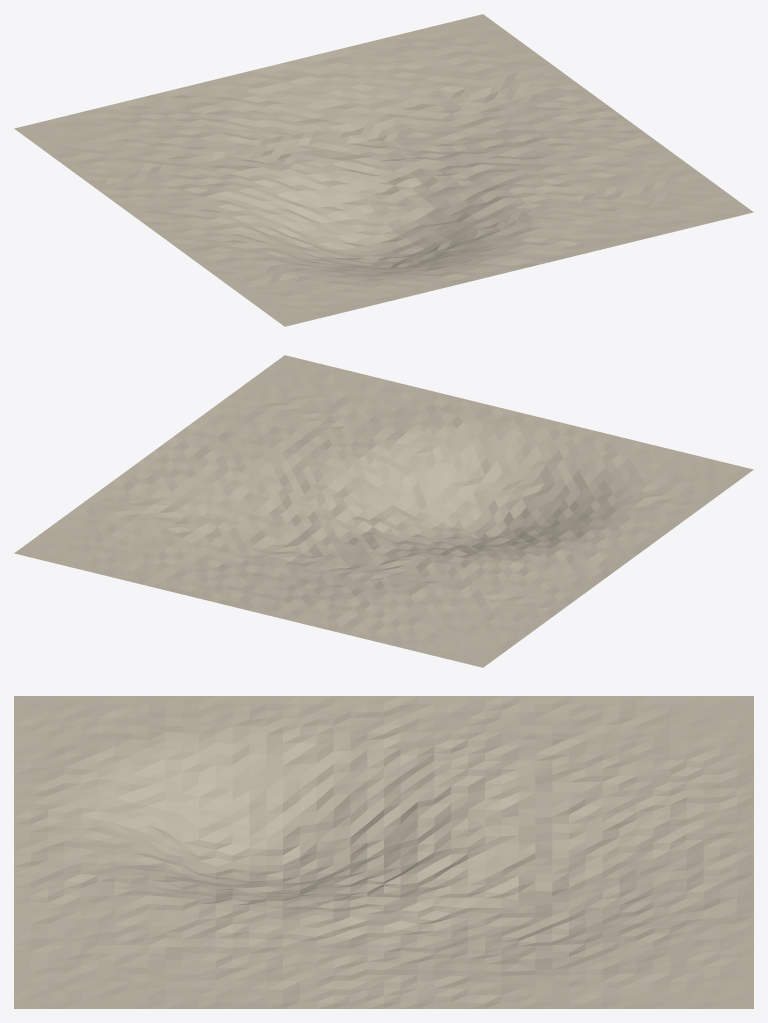
File: Ground_m_04.fbx
3 renders of one model, top to bottom at view 1: azimuth 30°, elevation 25°; view 2: azimuth 150°, elevation 25°; view 3: azimuth 270°, elevation 25°, orthographic. The views are drawn at different scales.
Parts seen in each view (by area): view 1: Ground_m_04; view 2: Ground_m_04; view 3: Ground_m_04.
Boxes of the visible parts, x1=… form: Ground_m_04: x1=14, y1=14, x2=753, y2=326; Ground_m_04: x1=14, y1=355, x2=753, y2=667; Ground_m_04: x1=14, y1=696, x2=753, y2=1008.
Bounding box in the file's own units: 10000 × 719 × 10000.
